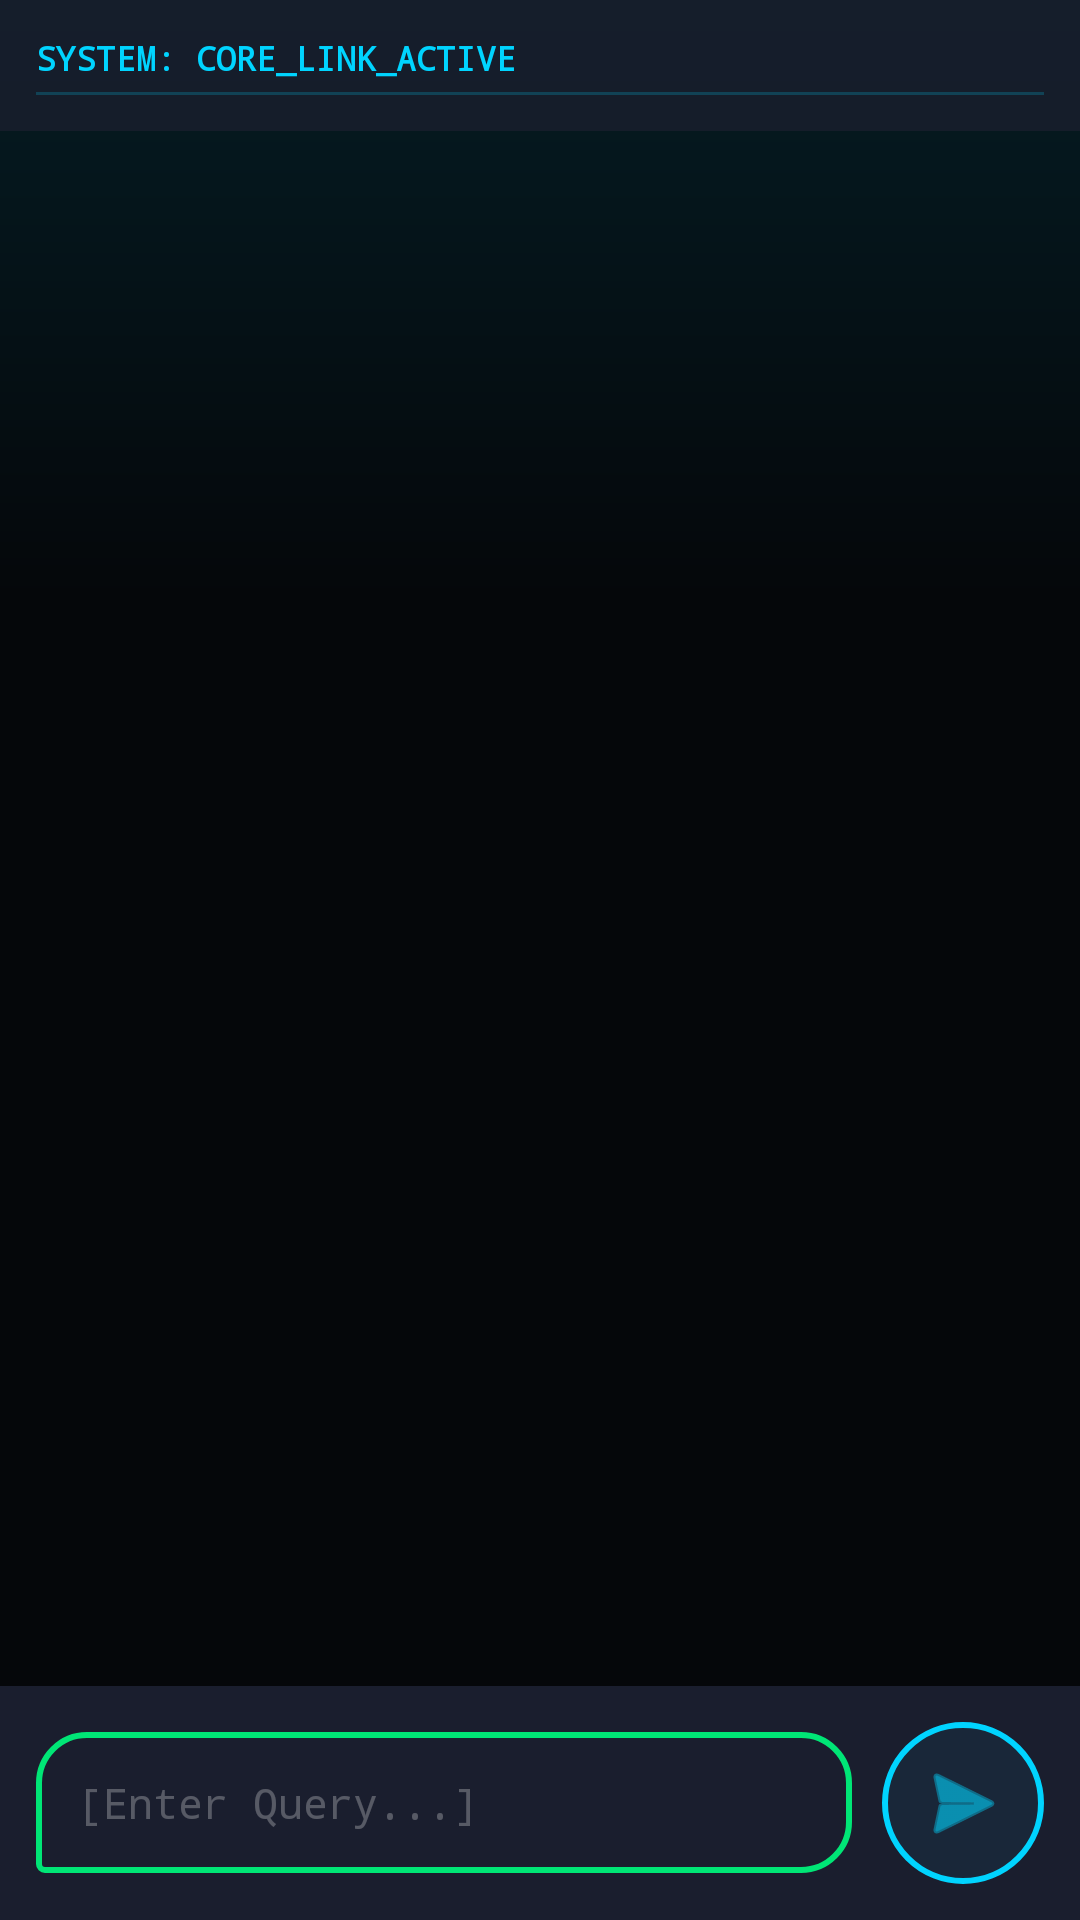

Locate icon controls on the screen. Image size 1080px x 1920px, boxes as detection(x1, y1, x2, y2).
send: detection(882, 1722, 1044, 1884)
